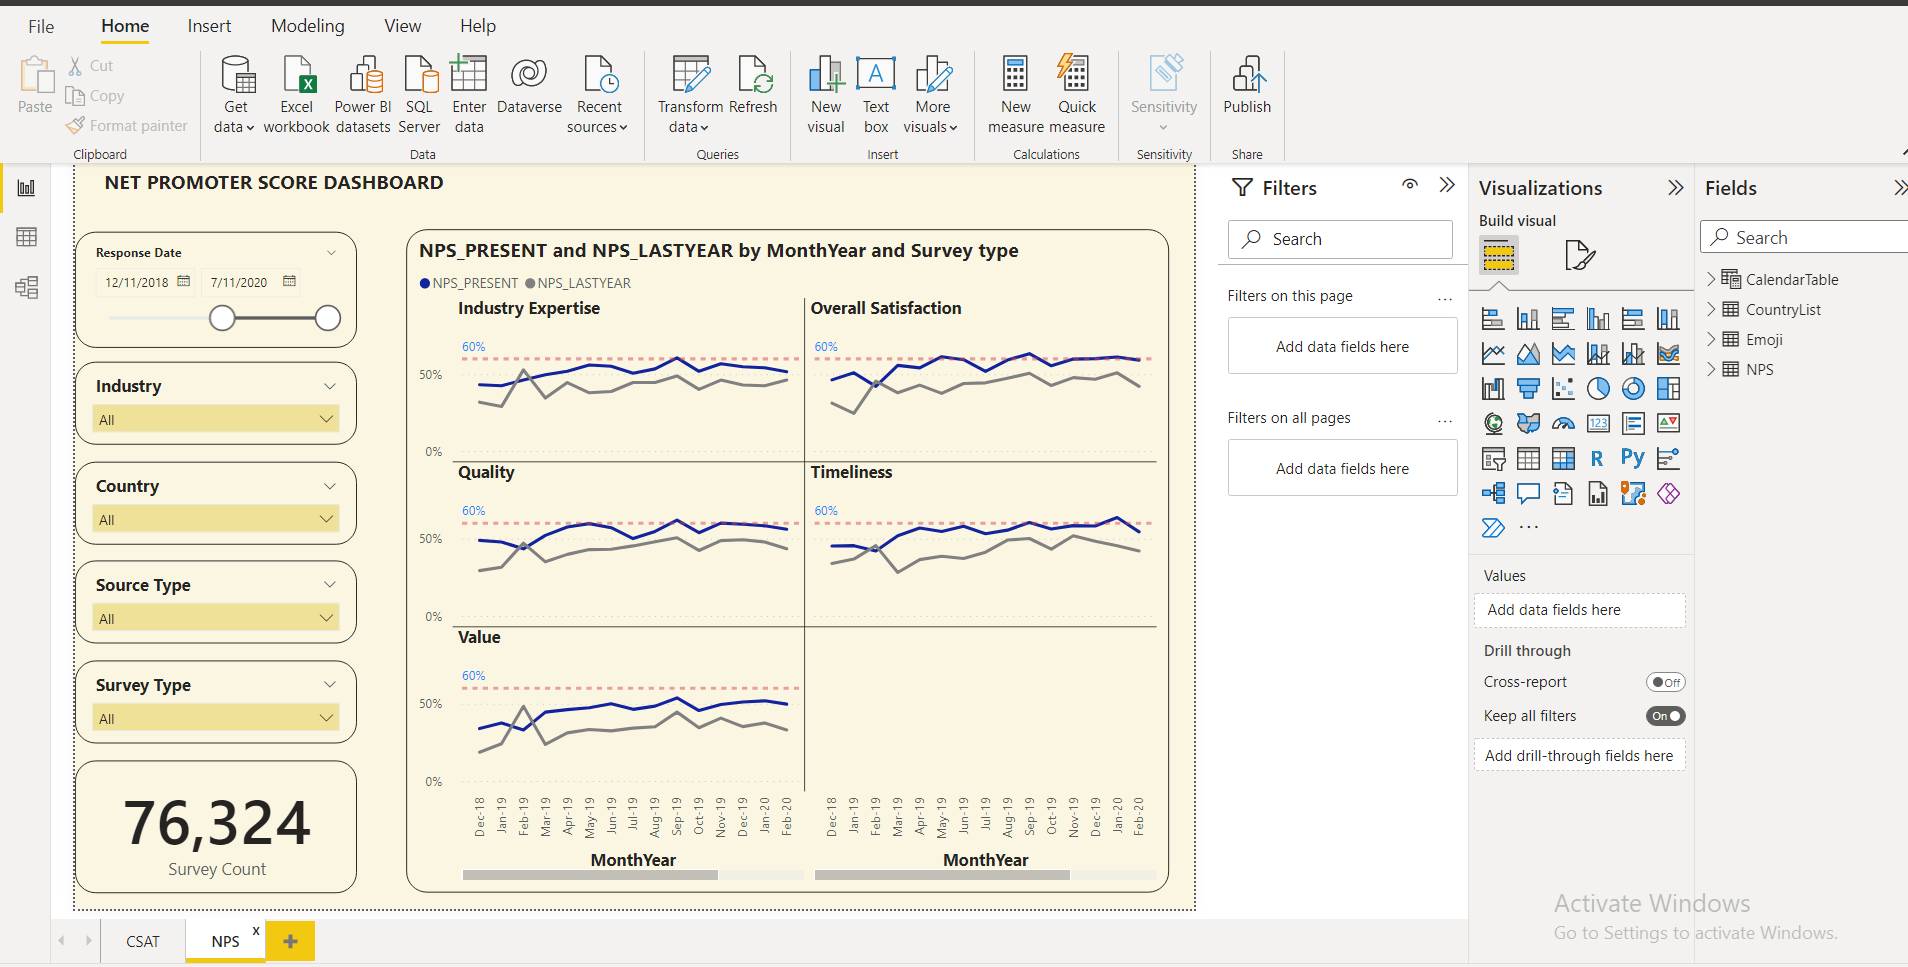

Layout of this report page (visuals, bound fields, positions):
{"tool":"powerbi","page":{"name":"NPS","canvas":[1080,720],"ordinal":1},"visuals":[{"type":"textbox","box":[0,0,384,48],"z":0},{"type":"slicer","fields":{"Values":["CalendarTable.Date"]},"box":[0,66.7,272,112],"z":1000},{"type":"slicer","fields":{"Values":["NPS.Industry"]},"box":[0,192,272,80],"z":2000},{"type":"slicer","fields":{"Values":["NPS.Source Type"]},"box":[0,384,272,80],"z":3000},{"type":"slicer","fields":{"Values":["CountryList.Country Name"]},"box":[0,288,272,80],"z":4000},{"type":"slicer","fields":{"Values":["NPS.Survey type"]},"box":[0,480,272,80],"z":5000},{"type":"card","fields":{"Values":["NPS.JustCount"]},"box":[0,576,272,128],"z":6000},{"type":"lineChart","fields":{"Y":["NPS.NPS_PRESENT","NPS.NPS_LASTYEAR"],"Category":["CalendarTable.MonthYear"],"Rows":["NPS.Survey type"]},"box":[320,64,736,640],"z":7000}]}

Visuals, with their boxes on the page's 1080x720 design canvas (x1, y1, x2, y2). These are canvas units, not pixel positions in the 1908x967 screenshot, which may show the page scaled, cropped or inside an application window:
textbox: bbox=[0, 0, 384, 48]
slicer - CalendarTable.Date: bbox=[0, 67, 272, 179]
slicer - NPS.Industry: bbox=[0, 192, 272, 272]
slicer - NPS.Source Type: bbox=[0, 384, 272, 464]
slicer - CountryList.Country Name: bbox=[0, 288, 272, 368]
slicer - NPS.Survey type: bbox=[0, 480, 272, 560]
card - NPS.JustCount: bbox=[0, 576, 272, 704]
lineChart - NPS.NPS_PRESENT x NPS.NPS_LASTYEAR: bbox=[320, 64, 1056, 704]
